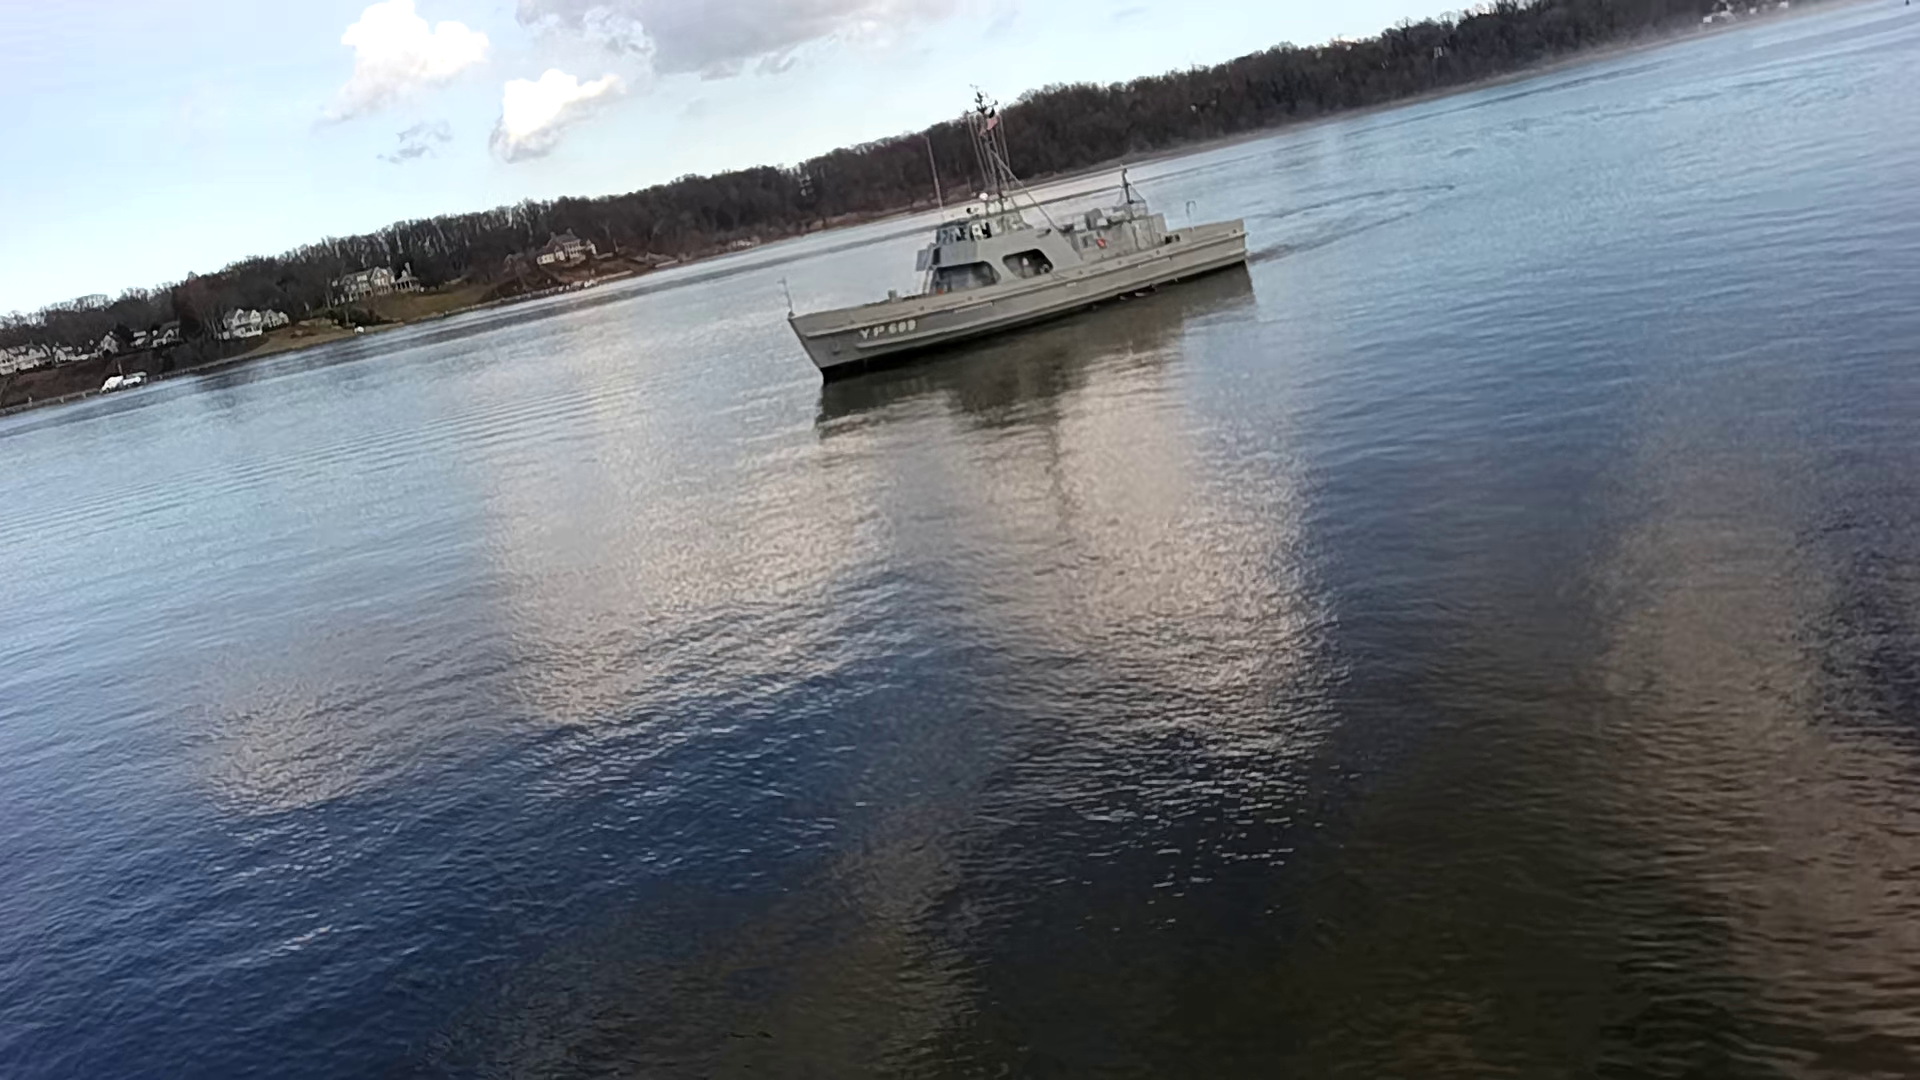YP689: (785, 90, 1251, 377)
